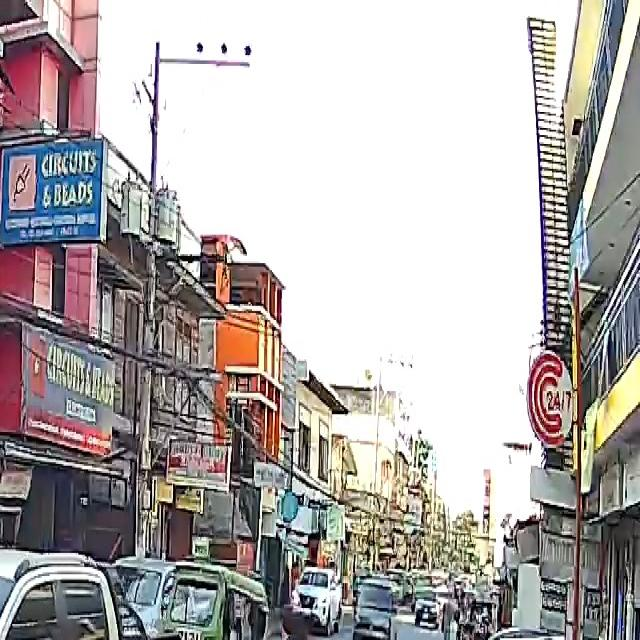car: (0, 530, 305, 640), (466, 624, 639, 640), (296, 572, 340, 632), (351, 597, 398, 640), (357, 581, 398, 626), (412, 593, 438, 628)
